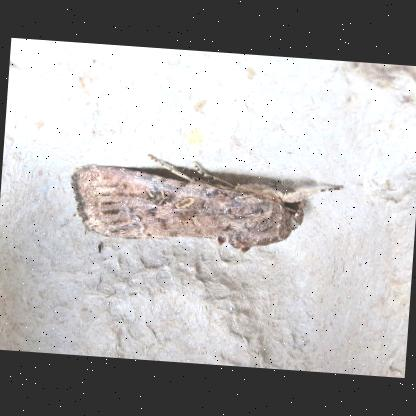Fall Armyworm Moth: (63, 146, 349, 264)
